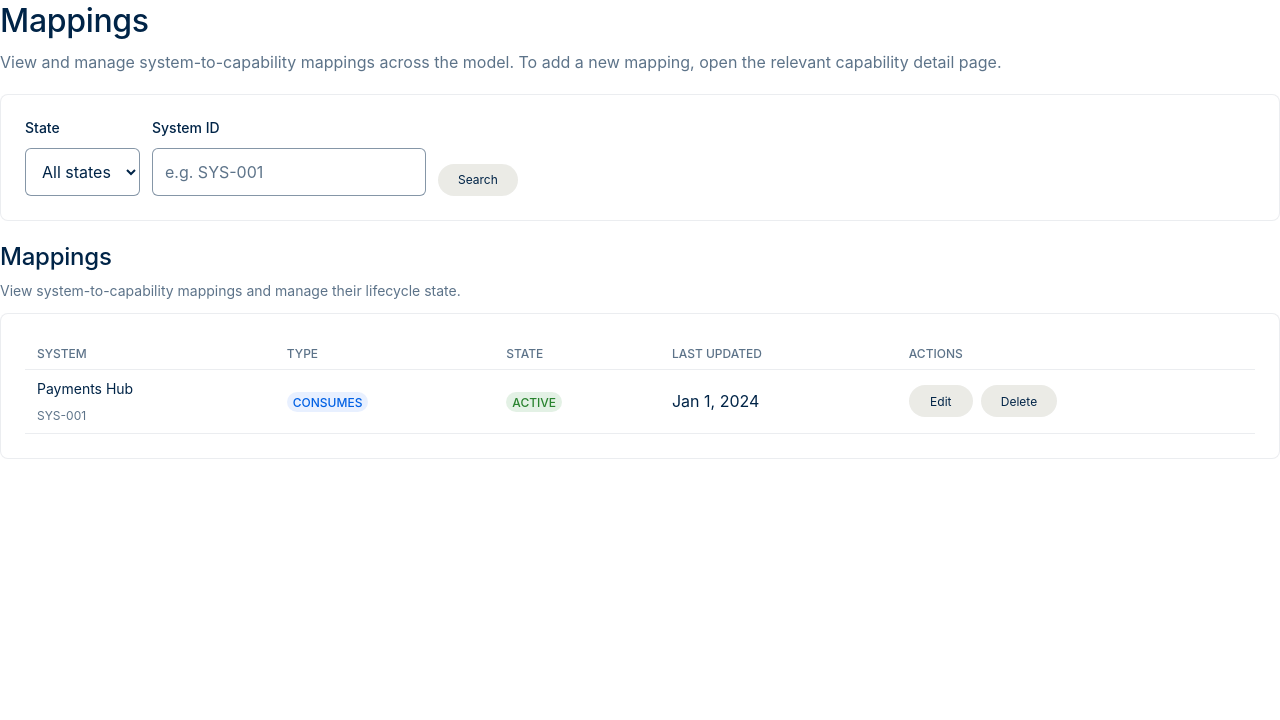
Test: MappingsPage › opens the edit dialog when Edit is clicked
The width and height of the screenshot is (1280, 720).
Click the button with aria-label "edit payments hub". click: (941, 401)
box: [909, 385, 973, 417]
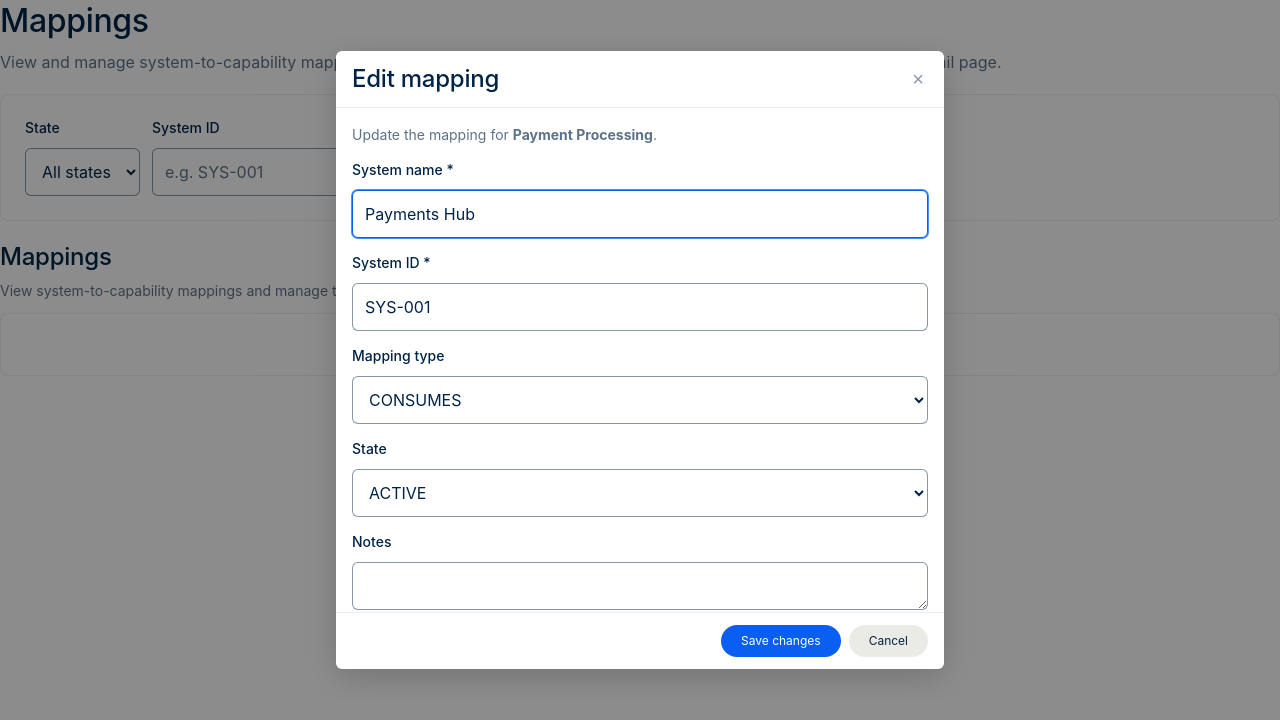
Now the dialog is shown, box [336, 51, 944, 669]
